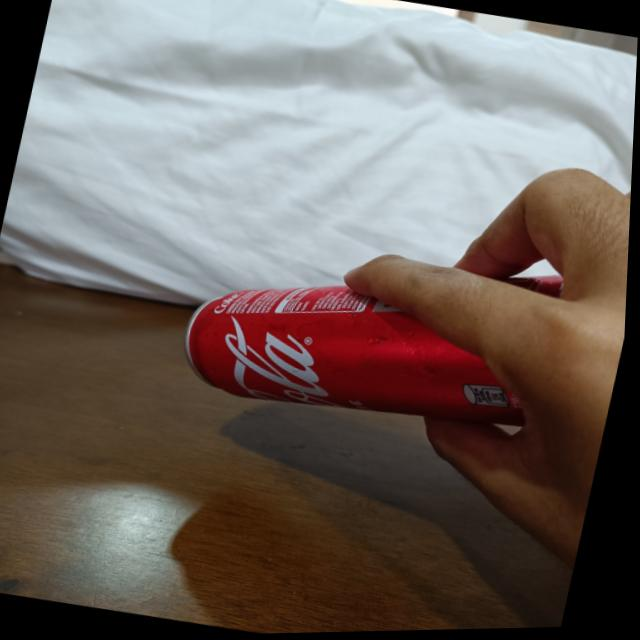coke: (179, 212, 599, 460)
